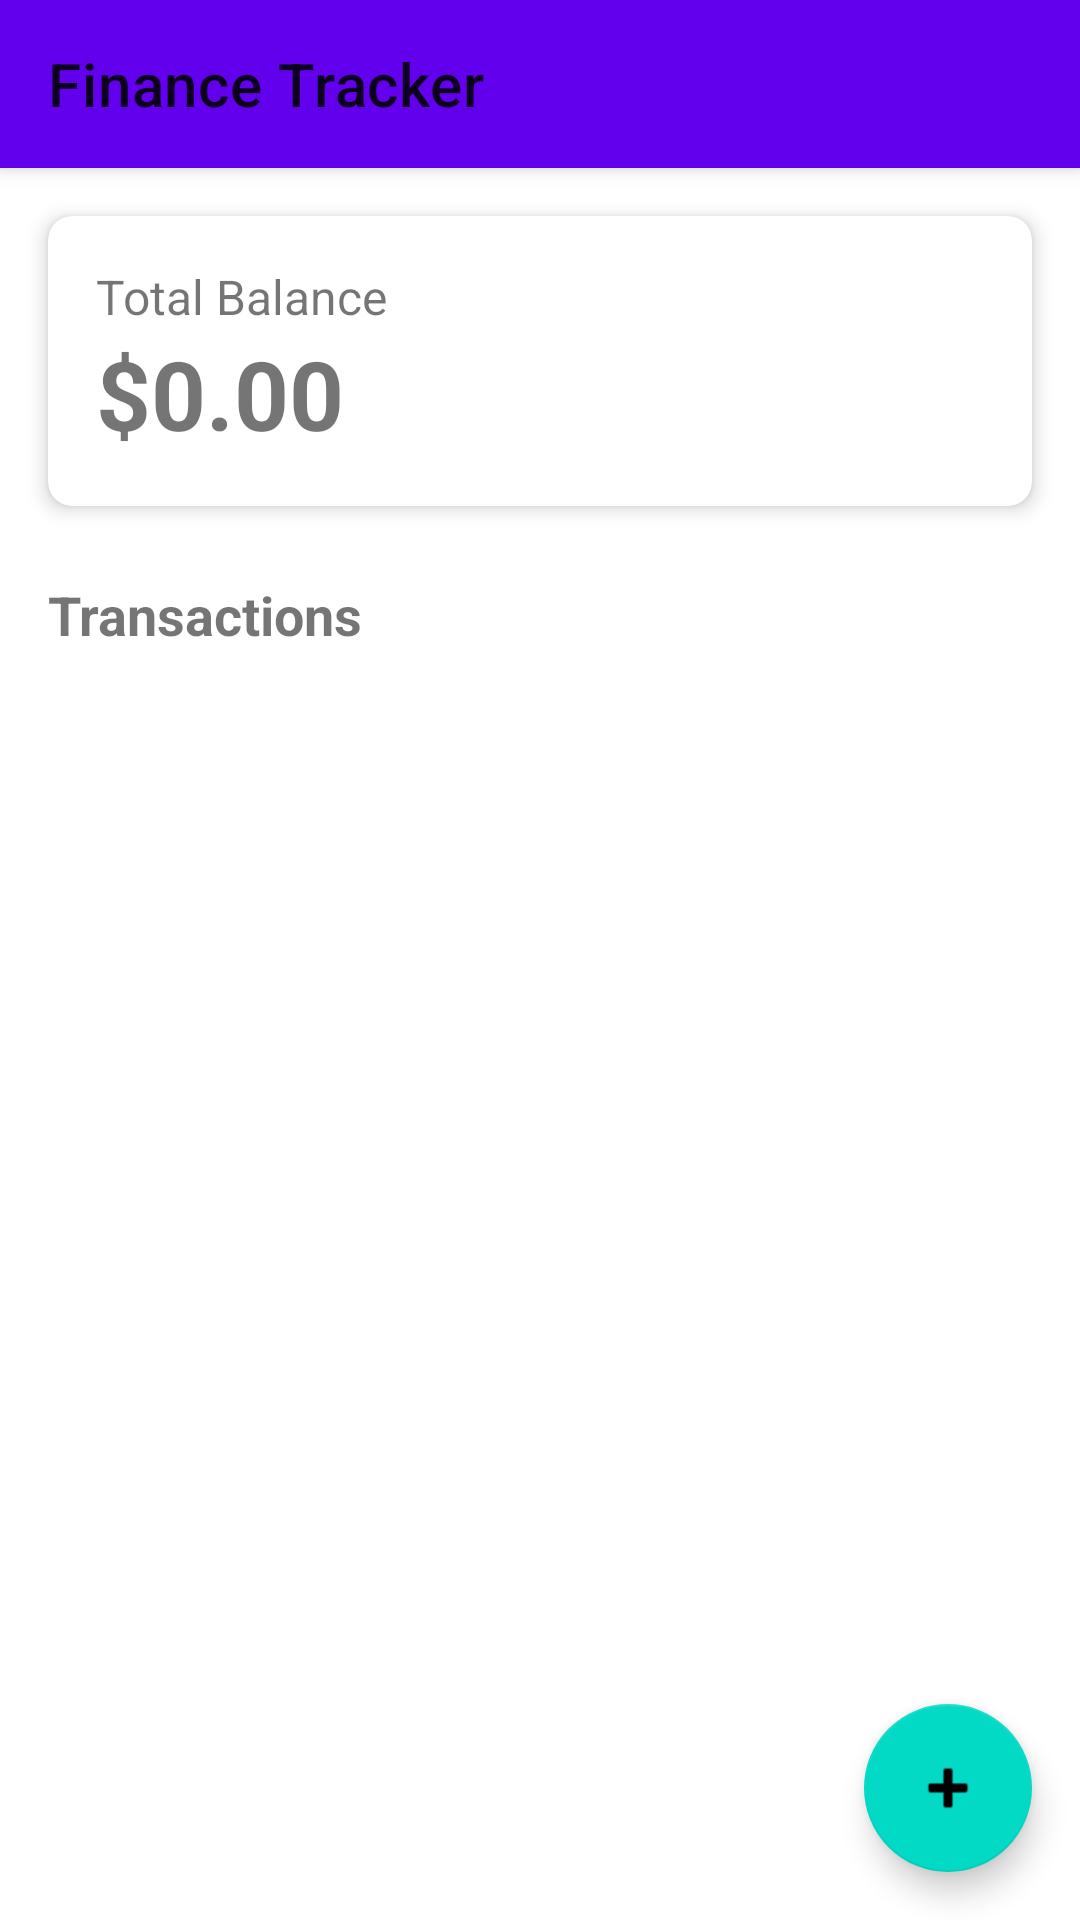

Icons on this 1080*1920 Android screen, each with its box as (x1, y1, x2, y2):
Add Transaction: (864, 1704, 1032, 1872)
